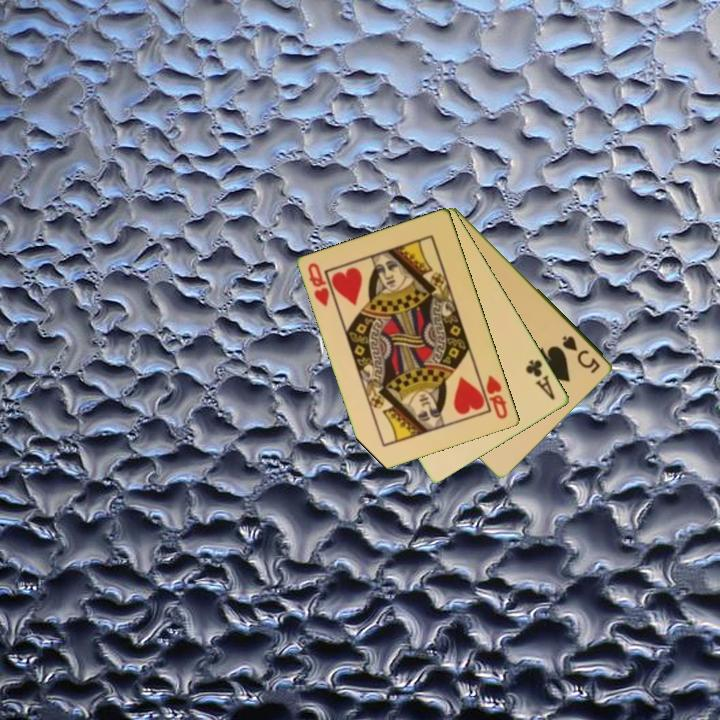5s: (559, 332, 604, 377)
Ac: (522, 356, 558, 403)
Qh: (305, 259, 333, 310), (483, 372, 511, 422)
